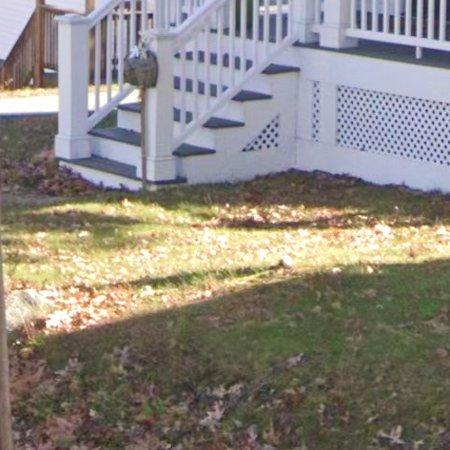stairs: (149, 64, 301, 187), (60, 102, 142, 190)
